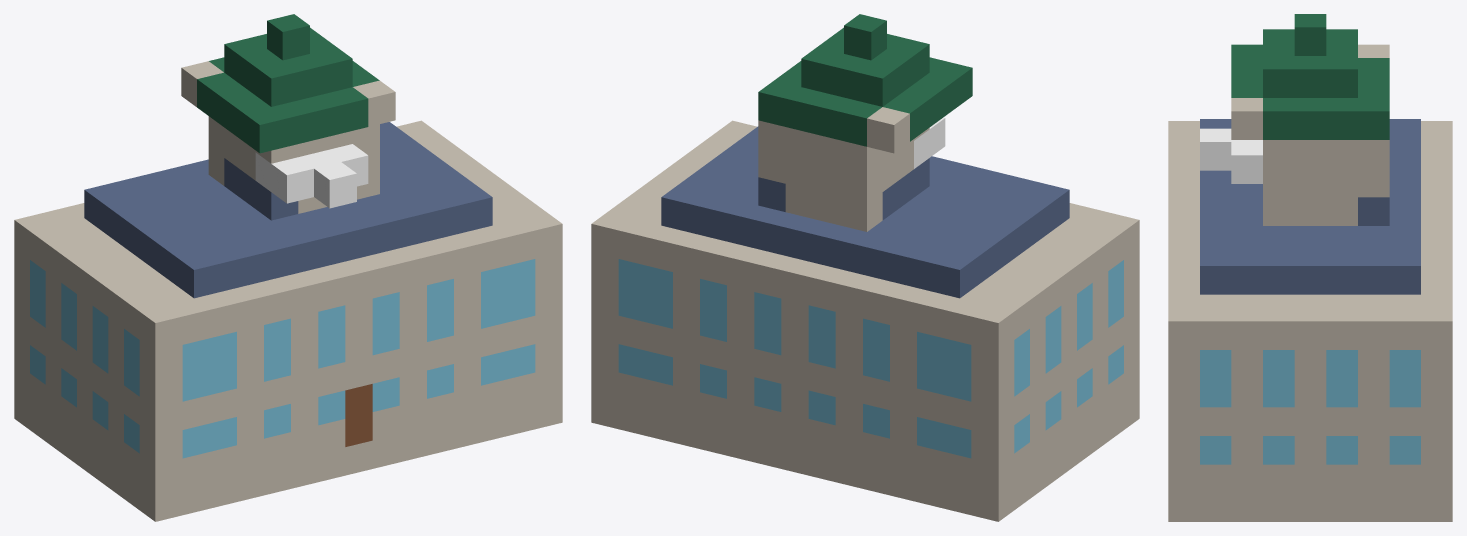
The model's file is town_hall.glb.
3 views of the same model, side by side, from view 1: azimuth 30°, elevation 25°; view 2: azimuth 150°, elevation 25°; view 3: azimuth 270°, elevation 25° (orthographic).
Parts seen in each view (by area): view 1: town_hall_stone, town_hall_roof_slate, town_hall_window, town_hall_pub_green, town_hall_white, town_hall_door; view 2: town_hall_stone, town_hall_roof_slate, town_hall_window, town_hall_pub_green, town_hall_white; view 3: town_hall_stone, town_hall_roof_slate, town_hall_pub_green, town_hall_window, town_hall_white.
Part boxes in pixels (<box>): town_hall_stone: <box>14,61,562,521</box>; town_hall_roof_slate: <box>84,122,492,298</box>; town_hall_window: <box>30,259,535,458</box>; town_hall_pub_green: <box>197,14,379,153</box>; town_hall_white: <box>255,144,368,208</box>; town_hall_door: <box>345,384,372,446</box>; town_hall_stone: <box>591,107,1139,521</box>; town_hall_roof_slate: <box>661,126,1069,298</box>; town_hall_window: <box>618,259,1123,458</box>; town_hall_pub_green: <box>758,14,972,146</box>; town_hall_white: <box>914,117,945,168</box>; town_hall_stone: <box>1168,44,1452,521</box>; town_hall_roof_slate: <box>1200,119,1420,294</box>; town_hall_pub_green: <box>1231,14,1389,139</box>; town_hall_window: <box>1200,350,1420,464</box>; town_hall_white: <box>1200,128,1262,183</box>.
Size of the model in its own units: 24.99 by 23.32 by 14.99.
